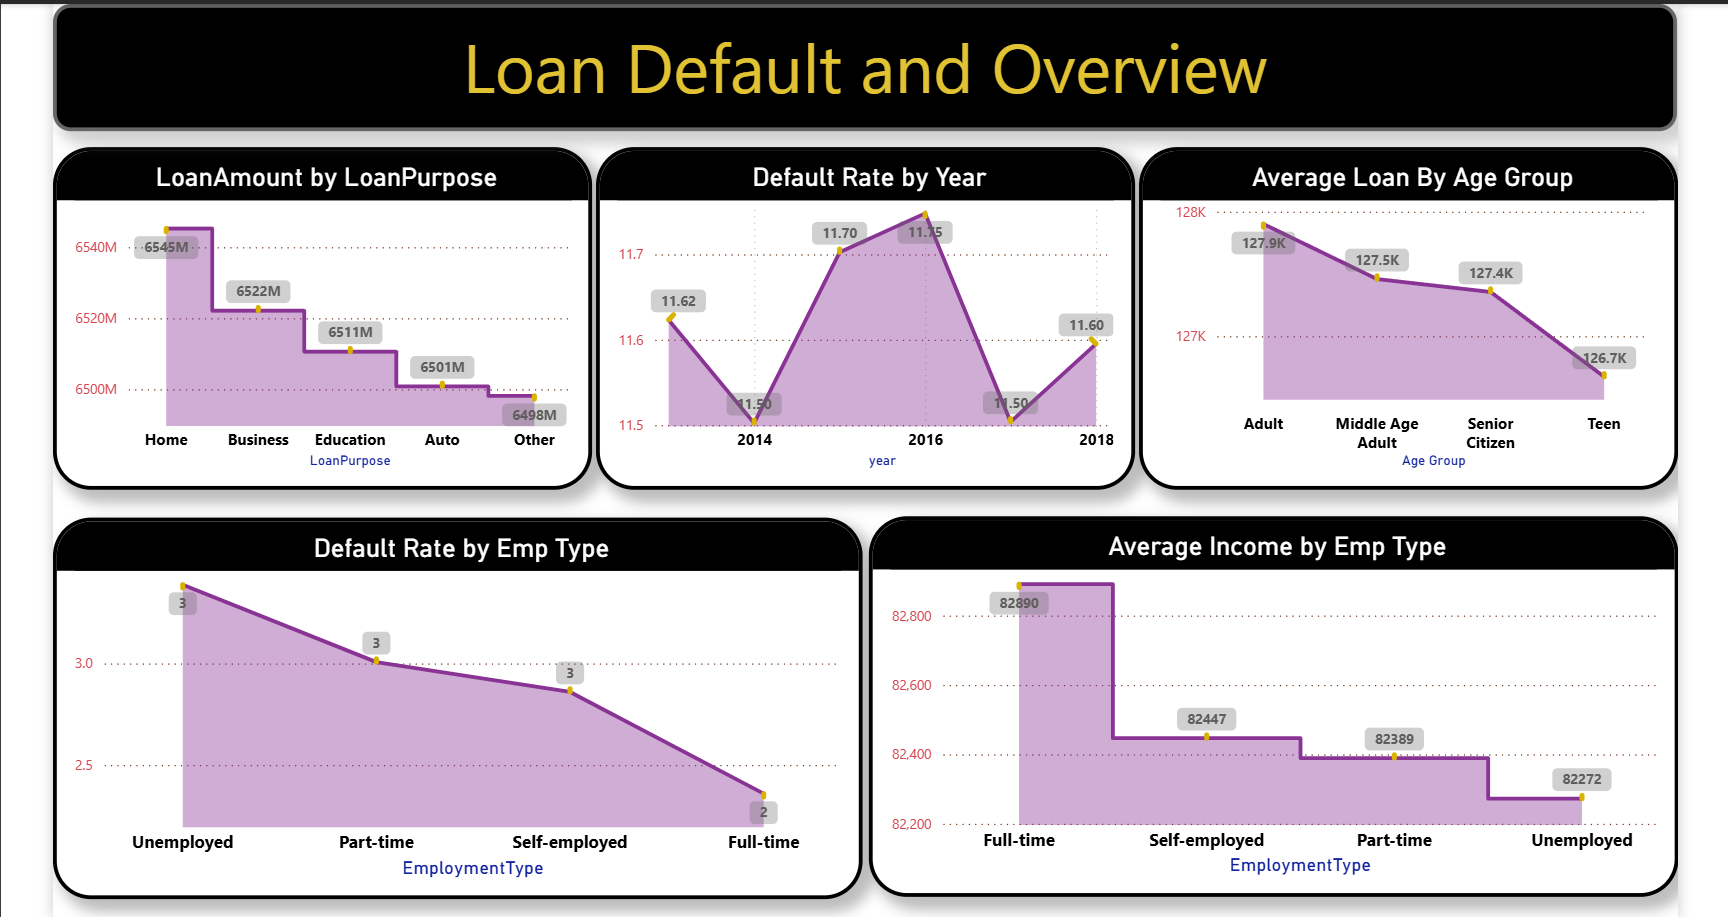

The page's visual inventory and layout, read from the dashboard file:
{"tool":"powerbi","page":{"name":"Loan Default and Overview","canvas":[1280,720],"ordinal":0},"visuals":[{"type":"lineChart","title":"LoanAmount by LoanPurpose","fields":{"Category":["Loan_default.LoanPurpose"],"Y":["Sum(Loan_default.LoanAmount)"]},"box":[0,112.3,425,270],"z":0},{"type":"textbox","box":[0,0,1279.6,99.8],"z":1000},{"type":"lineChart","title":"Default Rate by Emp Type","fields":{"Category":["Loan_default.EmploymentType"],"Y":["Measure Table.Default rate by empl type"]},"box":[0,404.8,637.7,300.7],"z":2000},{"type":"lineChart","title":"Default Rate by Year","fields":{"Category":["Loan_default.year"],"Y":["Measure Table.default rate by year"]},"box":[428.2,112.3,424.7,270.3],"z":3000},{"type":"lineChart","title":"Average Income by Emp Type","fields":{"Category":["Loan_default.EmploymentType"],"Y":["Measure Table.Average Income By Employment Type"]},"box":[642.3,404,637.7,300],"z":4000},{"type":"lineChart","title":"Average Loan By Age Group","fields":{"Category":["Loan_default.Age Group"],"Y":["Measure Table.Avg Loan Amount by age group"]},"box":[855.3,112.3,425,270.3],"z":5000}]}

Visuals, with their boxes in screenshot pixels (x1, y1, x2, y2):
"LoanAmount by LoanPurpose" lineChart: 54:146:588:485
textbox: 54:4:1663:130
"Default Rate by Emp Type" lineChart: 54:513:856:892
"Default Rate by Year" lineChart: 592:146:1126:486
"Average Income by Emp Type" lineChart: 862:512:1663:890
"Average Loan By Age Group" lineChart: 1129:146:1664:486
